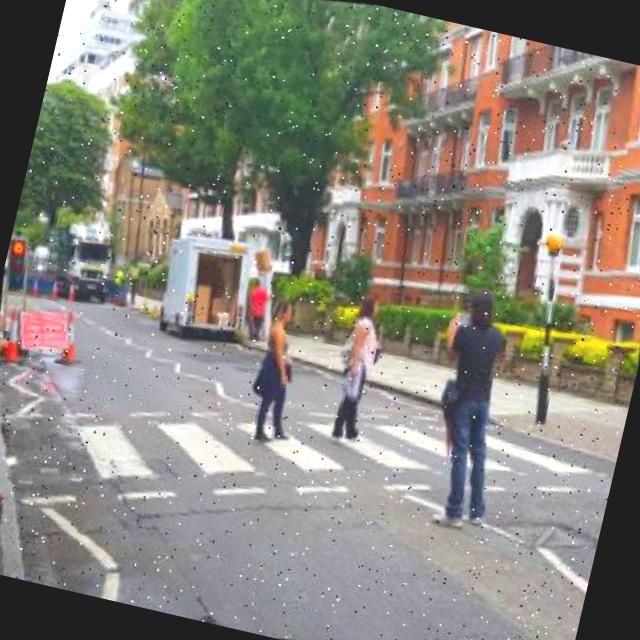Person: (398, 283, 534, 539), (314, 288, 402, 445), (235, 294, 318, 448), (236, 270, 282, 346)
